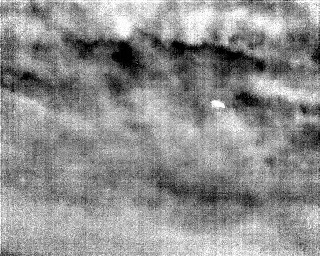BIRD: (209, 97, 228, 112)
